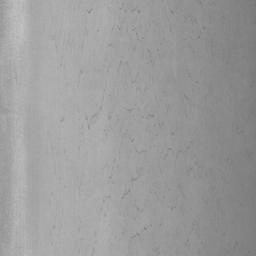Silk spot: (85, 113, 99, 120)
